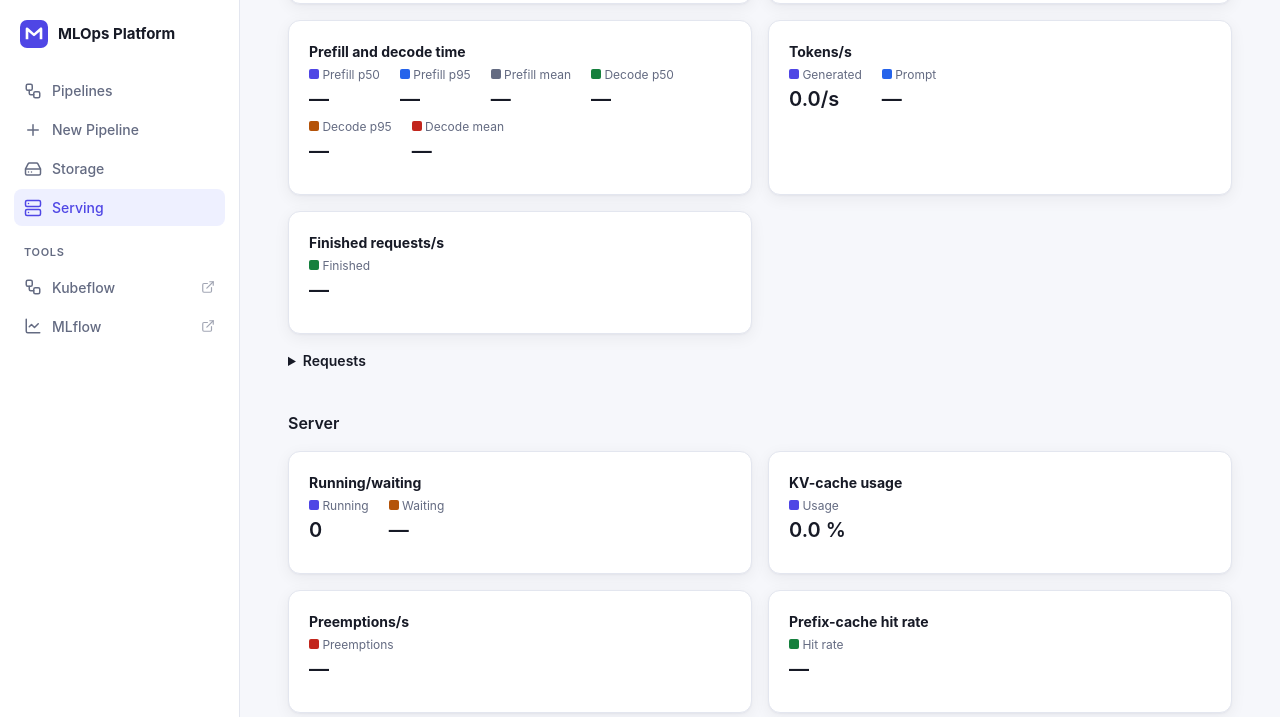
Test: the Requests subsection is closed and fetches nothing until opened
(page scrolled)
Check: the heading "Running/waiting" is shown, box 309,474 -> 421,490
What coordinates should you click on to do the following:
click the heading "Requests"
I would click on:
 (334, 360)
Its box is 303,352 -> 366,368.
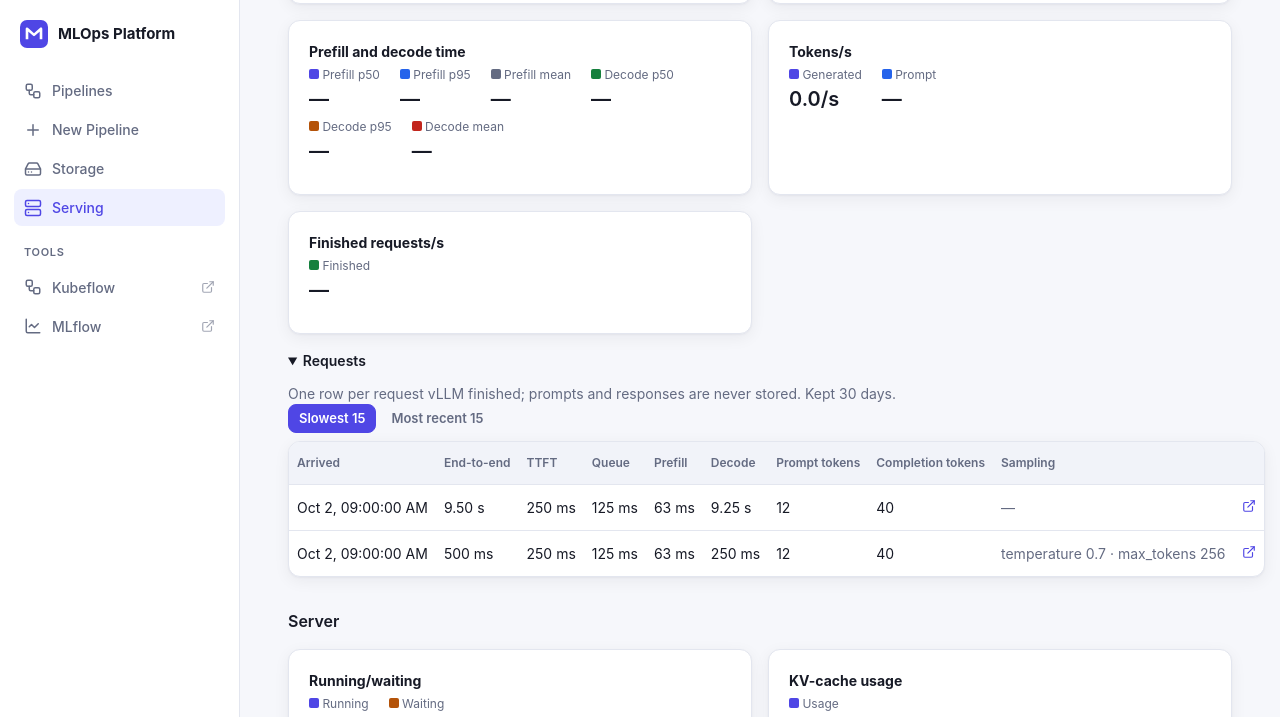
Check: the text "9.50 s" shows "250 ms", box 526,499 -> 576,516
Check: the text "temperature 0.7 · max_tokens 256" is shown, box 993,530 -> 1234,576
